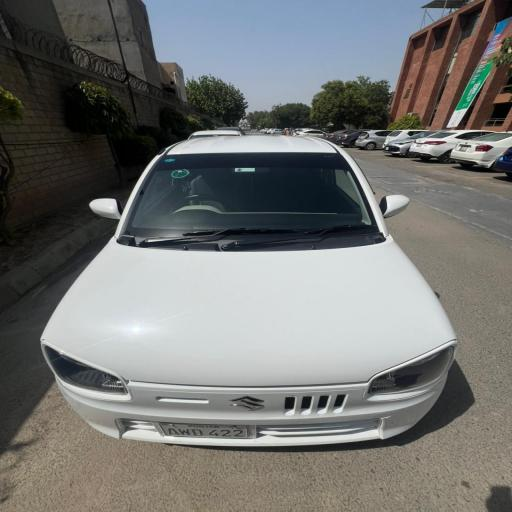bnu_sticker: (170, 169, 190, 178)
number_plate: (160, 423, 250, 440)
